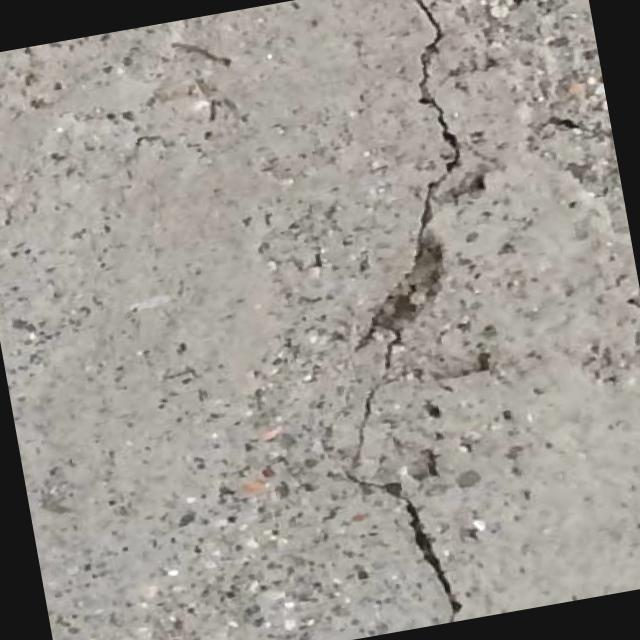crack: (389, 0, 474, 177), (376, 480, 466, 630)
spall: (296, 167, 535, 495), (452, 0, 612, 160)
